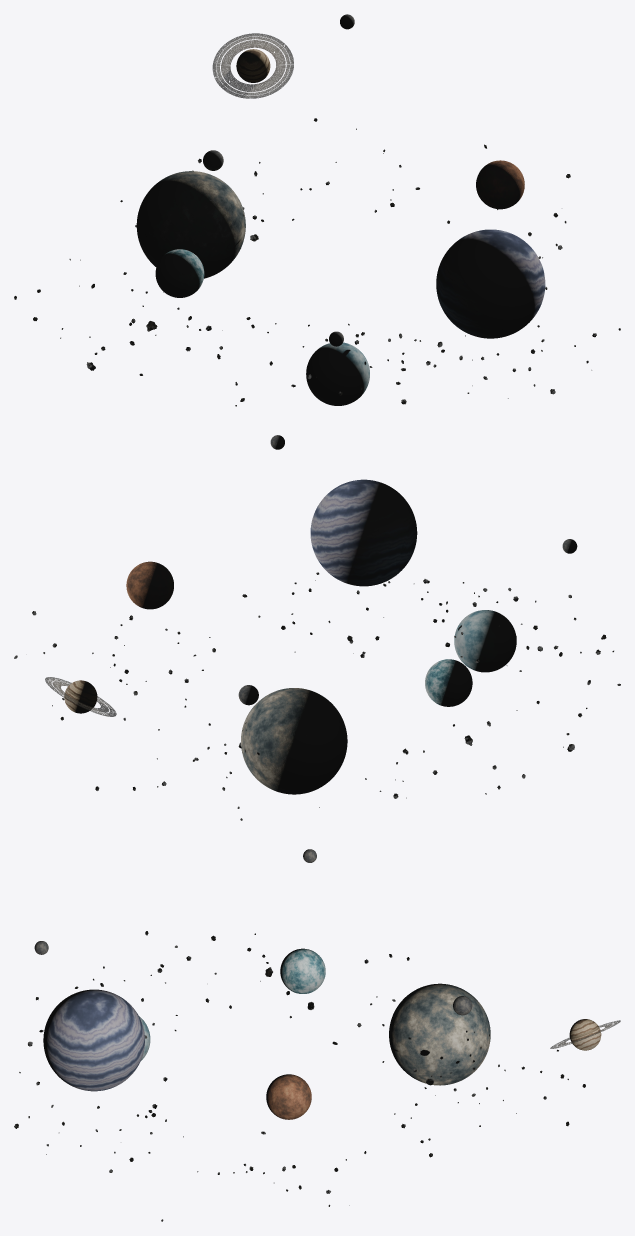
File: asterion-worlds.glb
The picture shows the model from 3 angles, top to bottom: view 1: azimuth 30°, elevation 25°; view 2: azimuth 150°, elevation 25°; view 3: azimuth 270°, elevation 25°; orthographic projection. The views are drawn at different scales.
Parts seen in each view (by area): view 1: ASTERION / ITHACA / violet storm giant, ASTERION / VESPER / tidally scarred mineral world, ASTERION / ORISON / fractured ocean ice, ASTERION / Nacre rings, ASTERION / CINDER / iron moon, ASTERION / LUMEN / pale distant satellite, ASTERION / debris field, ASTERION / NACRE / copper and pearl gas giant; view 2: ASTERION / ITHACA / violet storm giant, ASTERION / VESPER / tidally scarred mineral world, ASTERION / ORISON / fractured ocean ice, ASTERION / CINDER / iron moon, ASTERION / LUMEN / pale distant satellite, ASTERION / debris field, ASTERION / NACRE / copper and pearl gas giant, ASTERION / Nacre rings; view 3: ASTERION / ITHACA / violet storm giant, ASTERION / VESPER / tidally scarred mineral world, ASTERION / CINDER / iron moon, ASTERION / LUMEN / pale distant satellite, ASTERION / debris field, ASTERION / NACRE / copper and pearl gas giant.
Boxes of the visible parts, left/top/right/bottom form: ASTERION / ITHACA / violet storm giant: left=436, top=229, right=545, bottom=338; ASTERION / VESPER / tidally scarred mineral world: left=136, top=171, right=245, bottom=278; ASTERION / ORISON / fractured ocean ice: left=306, top=342, right=369, bottom=405; ASTERION / Nacre rings: left=212, top=33, right=293, bottom=98; ASTERION / CINDER / iron moon: left=476, top=160, right=524, bottom=209; ASTERION / LUMEN / pale distant satellite: left=155, top=249, right=204, bottom=297; ASTERION / debris field: left=14, top=118, right=620, bottom=406; ASTERION / NACRE / copper and pearl gas giant: left=236, top=49, right=270, bottom=82; ASTERION / ITHACA / violet storm giant: left=310, top=479, right=417, bottom=586; ASTERION / VESPER / tidally scarred mineral world: left=241, top=688, right=347, bottom=794; ASTERION / ORISON / fractured ocean ice: left=454, top=610, right=516, bottom=672; ASTERION / CINDER / iron moon: left=126, top=561, right=173, bottom=609; ASTERION / LUMEN / pale distant satellite: left=425, top=659, right=472, bottom=706; ASTERION / debris field: left=14, top=572, right=620, bottom=820; ASTERION / NACRE / copper and pearl gas giant: left=64, top=680, right=97, bottom=713; ASTERION / Nacre rings: left=45, top=677, right=116, bottom=716; ASTERION / ITHACA / violet storm giant: left=43, top=989, right=144, bottom=1091; ASTERION / VESPER / tidally scarred mineral world: left=389, top=983, right=490, bottom=1085; ASTERION / CINDER / iron moon: left=266, top=1074, right=311, bottom=1119; ASTERION / LUMEN / pale distant satellite: left=280, top=948, right=325, bottom=993; ASTERION / debris field: left=14, top=931, right=585, bottom=1221; ASTERION / NACRE / copper and pearl gas giant: left=569, top=1019, right=601, bottom=1050.
Size of the model in its own units: 324 by 179 by 346.
11 materials, 11 textured.
